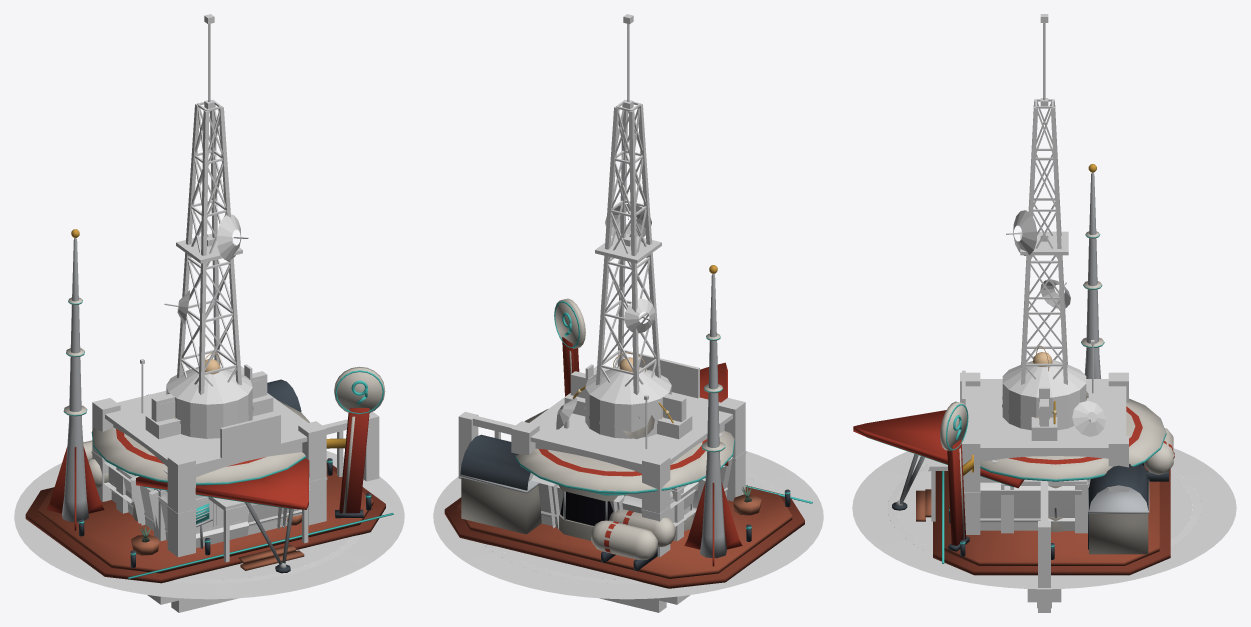
File: meridian.glb
3 renders of one model, left to right at view 1: azimuth 30°, elevation 25°; view 2: azimuth 150°, elevation 25°; view 3: azimuth 270°, elevation 25°, orthographic.
Visible parts, largest first — view 1: m_waystation, m_office, m_pad, m_mast, m_condenser, m_hab, m_ringgate, m_billboard; view 2: m_waystation, m_office, m_pad, m_mast, m_condenser, m_ringgate, m_billboard, m_hab; view 3: m_waystation, m_pad, m_office, m_mast, m_condenser, m_hab, m_ringgate.
Part boxes in pixels (left/top/right/bottom): m_waystation: left=25, top=229, right=393, bottom=583; m_office: left=91, top=359, right=327, bottom=562; m_pad: left=14, top=451, right=404, bottom=599; m_mast: left=164, top=14, right=248, bottom=394; m_condenser: left=166, top=364, right=379, bottom=515; m_hab: left=116, top=467, right=165, bottom=541; m_ringgate: left=144, top=393, right=274, bottom=604; m_billboard: left=151, top=371, right=267, bottom=421; m_waystation: left=444, top=265, right=812, bottom=588; m_office: left=511, top=354, right=746, bottom=557; m_pad: left=433, top=451, right=823, bottom=599; m_mast: left=595, top=14, right=661, bottom=394; m_condenser: left=458, top=364, right=671, bottom=478; m_ringgate: left=564, top=393, right=693, bottom=604; m_billboard: left=570, top=371, right=686, bottom=421; m_hab: left=671, top=478, right=705, bottom=541; m_waystation: left=853, top=164, right=1174, bottom=575; m_pad: left=852, top=448, right=1236, bottom=589; m_office: left=928, top=340, right=1128, bottom=534; m_mast: left=1006, top=14, right=1070, bottom=384; m_condenser: left=1002, top=359, right=1086, bottom=612; m_hab: left=1001, top=479, right=1087, bottom=533; m_ringgate: left=1027, top=417, right=1061, bottom=602.
Bounding box in the file's own units: 20.7 × 34.25 × 20.7.
